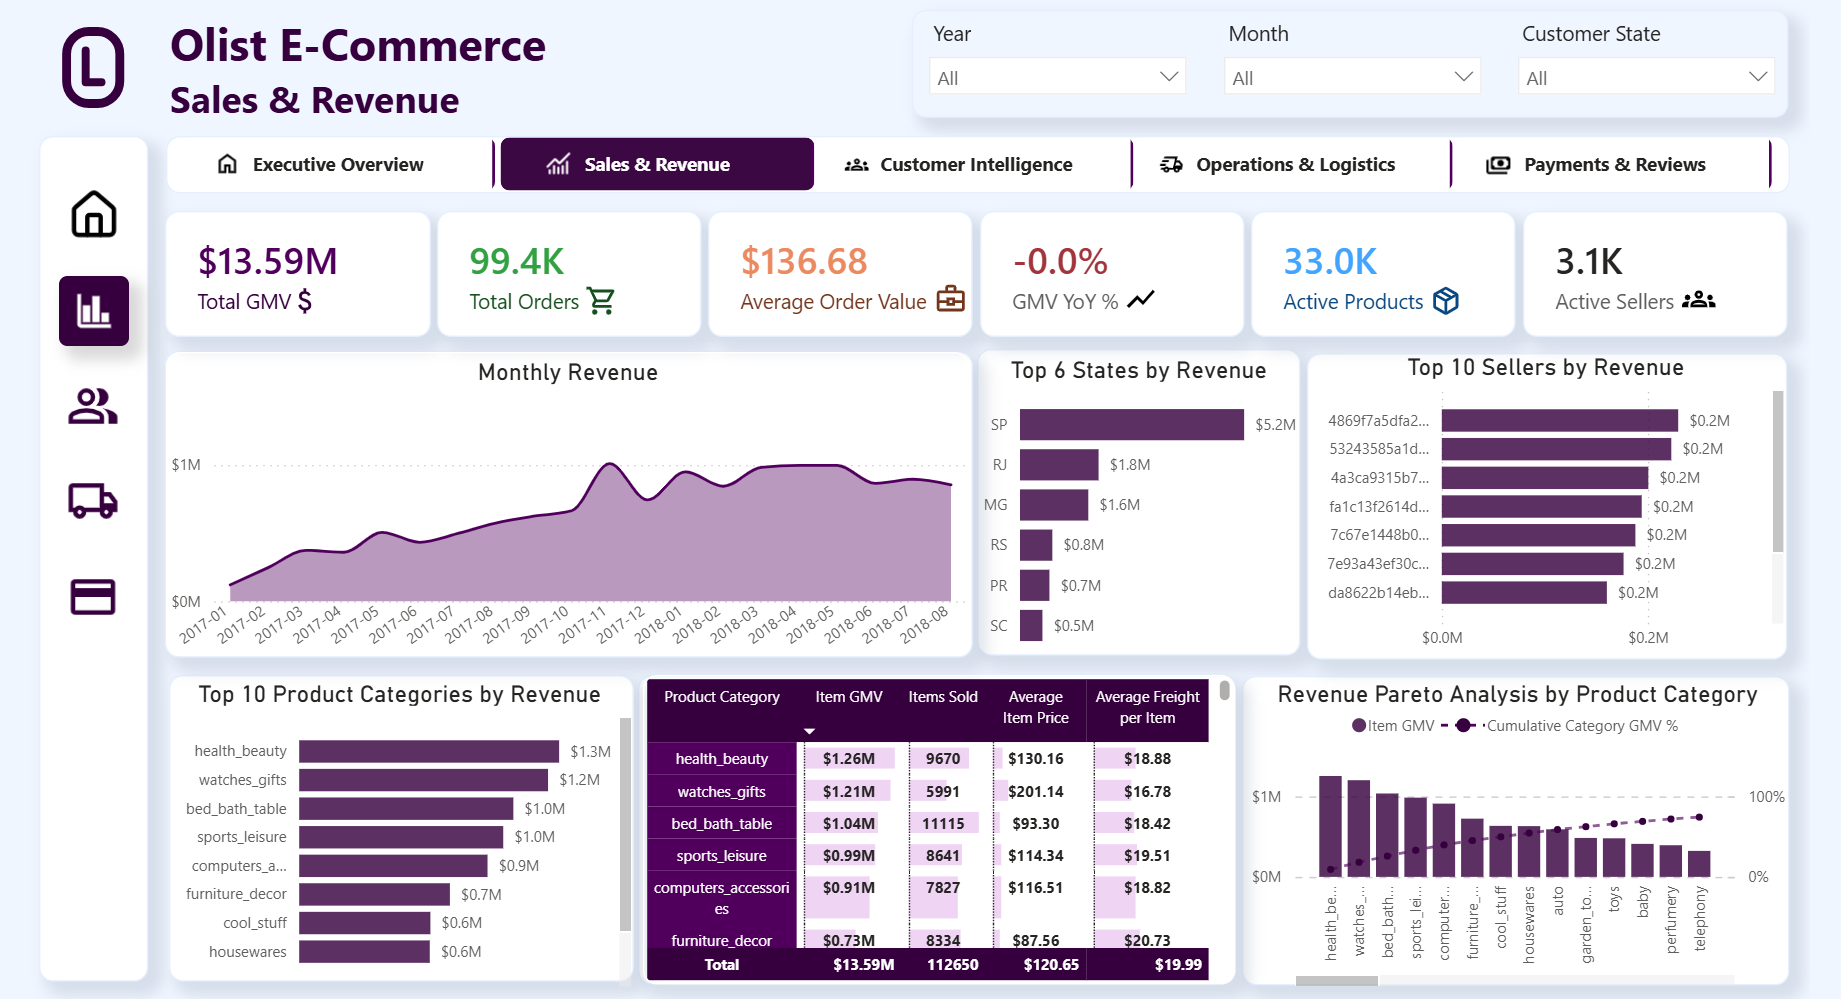

Layout of this report page (visuals, bound fields, positions):
{"tool":"powerbi","page":{"name":"Sales & Revenue","canvas":[1280,720],"ordinal":1},"visuals":[{"type":"image","box":[15.9,5.9,76.5,85.1],"z":0,"group":"g1"},{"type":"shape","box":[15.3,96.8,77.7,603.7],"z":0},{"type":"image","box":[19.9,11.6,68.4,71.9],"z":1000,"group":"g1"},{"type":"shape","box":[684.8,249.5,231.1,218.9],"z":1000},{"type":"shape","box":[874.3,483,391.3,221.3],"z":2000},{"type":"shape","box":[442.7,481.8,427,221.3],"z":3000},{"type":"shape","box":[107.6,481.8,332,218.9],"z":4000},{"type":"shape","box":[920.8,251.9,342.6,219.1],"z":5000},{"type":"shape","box":[105.2,250.7,577.2,218.9],"z":6000},{"type":"shape","box":[638.3,7.3,626.1,77],"z":7000},{"type":"textbox","box":[63.6,3.7,368.1,90.5],"z":8000},{"type":"slicer","fields":{"Values":["dim_date.year"]},"box":[640.8,8.6,204.2,77],"z":9000},{"type":"slicer","fields":{"Values":["dim_date.month_name"]},"box":[851.2,8.6,204,77],"z":10000},{"type":"slicer","fields":{"Values":["dim_customer.Customer State"]},"box":[1061.4,8.6,204.2,77],"z":11000},{"type":"clusteredBarChart","title":"Top 6 States by Revenue","fields":{"Category":["dim_customer.Customer State"],"Y":["_Measures.Total GMV"]},"box":[686,250.7,229.9,221.3],"z":12000},{"type":"group","id":"g1","title":"Group 1","box":[15.9,5.9,76.5,85.1],"z":13000},{"type":"group","id":"g2","title":"Group 2","box":[105.2,150.4,1158.7,90.5],"z":14000},{"type":"actionButton","box":[29.3,128.6,50,50],"z":15000},{"type":"actionButton","box":[29.3,196.8,50,50],"z":16000},{"type":"actionButton","box":[317.4,102.3,30.2,30.2],"z":17000},{"type":"cardVisual","fields":{"Data":["_Measures.Total GMV"]},"box":[105.2,150.4,189.5,90.5],"z":17000,"group":"g2"},{"type":"cardVisual","fields":{"Data":["_Measures.Total Orders"]},"box":[299.6,150.4,189,90],"z":18000,"group":"g2"},{"type":"actionButton","box":[28.9,265,50,50],"z":18000},{"type":"cardVisual","fields":{"Data":["_Measures.Average Order Value"]},"box":[493.4,150.4,189,90.5],"z":19000,"group":"g2"},{"type":"actionButton","box":[28.9,333.2,50,50],"z":19000},{"type":"cardVisual","fields":{"Data":["_Measures.GMV YoY %"]},"box":[687.2,150.4,189,90],"z":20000,"group":"g2"},{"type":"actionButton","box":[28.9,401.3,50,50],"z":20000},{"type":"cardVisual","fields":{"Data":["_Measures.Active Products"]},"box":[881.1,150.4,189,90],"z":21000,"group":"g2"},{"type":"cardVisual","fields":{"Data":["_Measures.Active Sellers"]},"box":[1074.9,150.4,189,90],"z":22000,"group":"g2"},{"type":"clusteredBarChart","title":"Top 10 Product Categories by Revenue","fields":{"Category":["dim_product.Product Category"],"Y":["_Measures.Item GMV"]},"box":[107.6,481.8,332.6,222.6],"z":22000},{"type":"pivotTable","title":"Category Performance","fields":{"Rows":["dim_product.Product Category"],"Values":["_Measures.Item GMV","_Measures.Items Sold","_Measures.Average Item Price","_Measures.Average Freight per Item"]},"box":[446.3,481.8,423.1,221.3],"z":23000},{"type":"clusteredBarChart","title":"Top 10 Sellers by Revenue","fields":{"Category":["dim_seller.seller_id"],"Y":["_Measures.Seller GMV"]},"box":[920.2,248.9,342.8,221.9],"z":24000},{"type":"lineClusteredColumnComboChart","title":"Revenue Pareto Analysis by Product Category","fields":{"Category":["dim_product.Product Category"],"Y":["_Measures.Item GMV"],"Y2":["_Measures.Cumulative Category GMV %"]},"box":[876.1,482.1,389.7,221.9],"z":25000},{"type":"image","box":[193.2,203,24.5,24.5],"z":26000},{"type":"image","box":[404.8,203,24.5,24.5],"z":27000},{"type":"image","box":[654.2,201.8,24.5,24.5],"z":28000},{"type":"image","box":[1188.6,201.8,24.5,24.5],"z":29000},{"type":"image","box":[789.9,201.8,24.5,24.5],"z":30000},{"type":"image","box":[1007.6,203,24.5,24.5],"z":31000},{"type":"lineStackedColumnComboChart","title":"Monthly Revenue","fields":{"Category":["dim_date.year_month"],"Y2":["_Measures.Total GMV"]},"box":[106,251.4,572.6,217.1],"z":32000},{"type":"pageNavigator","box":[105.7,96.8,1160.3,40.8],"z":33000},{"type":"actionButton","box":[370.5,101.5,30.6,30.6],"z":33001},{"type":"actionButton","box":[134.5,101.5,30.6,30.6],"z":33002},{"type":"actionButton","box":[583.3,102.7,30.6,29.3],"z":33003},{"type":"actionButton","box":[809.5,102.7,29.3,29.3],"z":33004},{"type":"actionButton","box":[1041.9,102.7,30.6,30.6],"z":33005}]}

Visuals, with their boxes on the page's 1280x720 design canvas (x1, y1, x2, y2). These are canvas units, not pixel positions in the 1841x999 screenshot, which may show the page scaled, cropped or inside an application window:
image: [16, 6, 92, 91]
shape: [15, 97, 93, 700]
image: [20, 12, 88, 84]
shape: [685, 250, 916, 468]
shape: [874, 483, 1266, 704]
shape: [443, 482, 870, 703]
shape: [108, 482, 440, 701]
shape: [921, 252, 1263, 471]
shape: [105, 251, 682, 470]
shape: [638, 7, 1264, 84]
textbox: [64, 4, 432, 94]
slicer - dim_date.year: [641, 9, 845, 86]
slicer - dim_date.month_name: [851, 9, 1055, 86]
slicer - dim_customer.Customer State: [1061, 9, 1266, 86]
"Top 6 States by Revenue" clusteredBarChart: [686, 251, 916, 472]
"Group 1" group: [16, 6, 92, 91]
"Group 2" group: [105, 150, 1264, 241]
actionButton: [29, 129, 79, 179]
actionButton: [29, 197, 79, 247]
actionButton: [317, 102, 348, 132]
cardVisual - _Measures.Total GMV: [105, 150, 295, 241]
cardVisual - _Measures.Total Orders: [300, 150, 489, 240]
actionButton: [29, 265, 79, 315]
cardVisual - _Measures.Average Order Value: [493, 150, 682, 241]
actionButton: [29, 333, 79, 383]
cardVisual - _Measures.GMV YoY %: [687, 150, 876, 240]
actionButton: [29, 401, 79, 451]
cardVisual - _Measures.Active Products: [881, 150, 1070, 240]
cardVisual - _Measures.Active Sellers: [1075, 150, 1264, 240]
"Top 10 Product Categories by Revenue" clusteredBarChart: [108, 482, 440, 704]
"Category Performance" pivotTable: [446, 482, 869, 703]
"Top 10 Sellers by Revenue" clusteredBarChart: [920, 249, 1263, 471]
"Revenue Pareto Analysis by Product Category" lineClusteredColumnComboChart: [876, 482, 1266, 704]
image: [193, 203, 218, 228]
image: [405, 203, 429, 228]
image: [654, 202, 679, 226]
image: [1189, 202, 1213, 226]
image: [790, 202, 814, 226]
image: [1008, 203, 1032, 228]
"Monthly Revenue" lineStackedColumnComboChart: [106, 251, 679, 468]
pageNavigator: [106, 97, 1266, 138]
actionButton: [370, 102, 401, 132]
actionButton: [134, 102, 165, 132]
actionButton: [583, 103, 614, 132]
actionButton: [810, 103, 839, 132]
actionButton: [1042, 103, 1072, 133]
